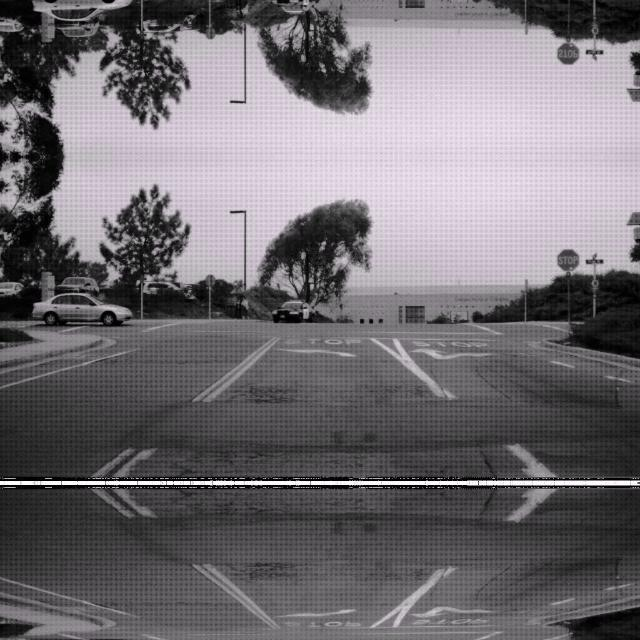stop: (555, 248, 579, 270), (555, 42, 579, 64)
